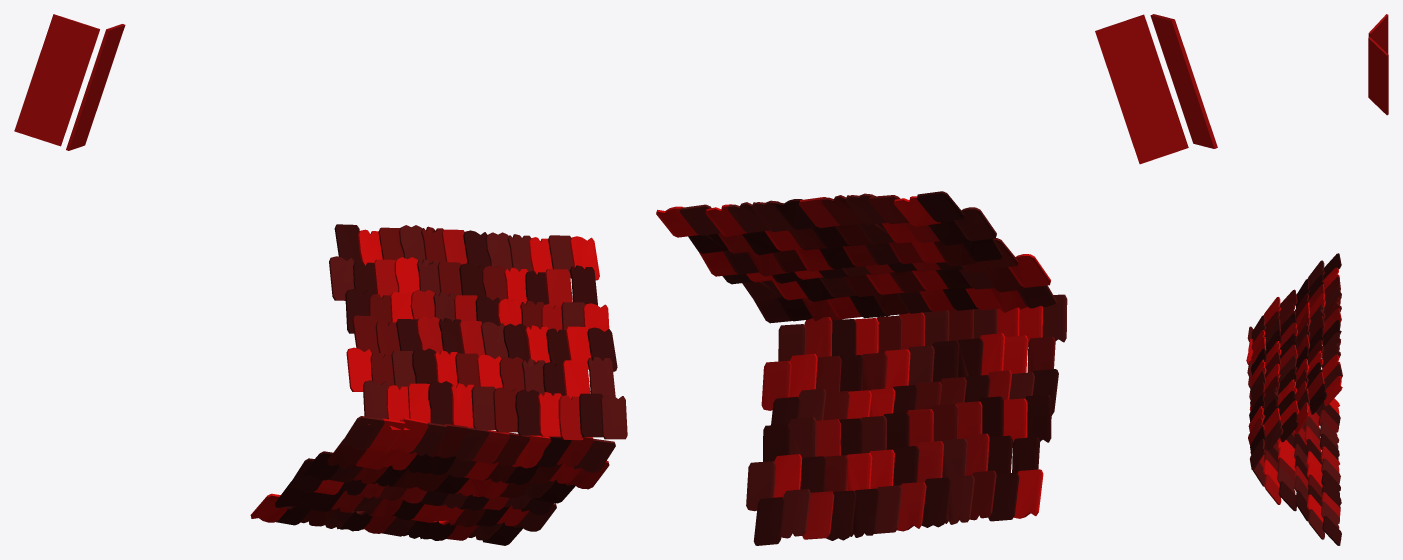
Rendered from Roofs.obj.
3 renders of one model, left to right at view 1: azimuth 30°, elevation 25°; view 2: azimuth 150°, elevation 25°; view 3: azimuth 270°, elevation 25°, orthographic. The views are drawn at different scales.
Parts seen in each view (by area): view 1: House.002, House.003, House.001, House.005, House.004, Well.003; view 2: House.002, House.001, House.003, House.005, House.004, Well.003; view 3: House.002, House.001, House.003, House.004, House.005, Well.003.
Part boxes in pixels (x1=…): House.002: x1=275, y1=224, x2=617, y2=545; House.003: x1=250, y1=229, x2=609, y2=526; House.001: x1=319, y1=225, x2=627, y2=540; House.005: x1=300, y1=226, x2=562, y2=527; House.004: x1=331, y1=229, x2=609, y2=540; Well.003: x1=14, y1=14, x2=125, y2=150; House.002: x1=688, y1=191, x2=1058, y2=545; House.001: x1=679, y1=193, x2=1067, y2=538; House.003: x1=656, y1=196, x2=1050, y2=518; House.005: x1=772, y1=195, x2=1055, y2=520; House.004: x1=718, y1=197, x2=1011, y2=539; Well.003: x1=1095, y1=14, x2=1217, y2=164; House.002: x1=1249, y1=253, x2=1341, y2=545; House.001: x1=1247, y1=260, x2=1342, y2=539; House.003: x1=1246, y1=267, x2=1342, y2=522; House.004: x1=1248, y1=284, x2=1341, y2=517; House.005: x1=1248, y1=276, x2=1341, y2=497; Well.003: x1=1368, y1=14, x2=1388, y2=115.
Bounding box in the file's own units: 1.43 × 1.52 × 0.4911.
